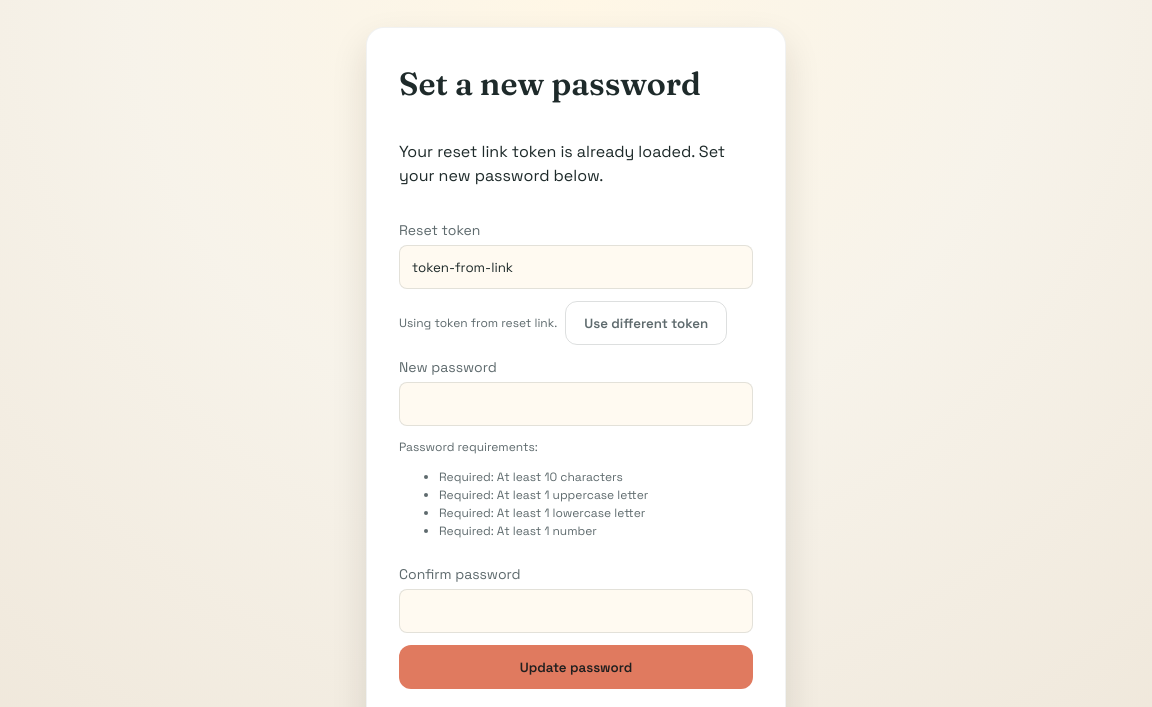
Test case: ResetPassword page › blocks submit when password does not meet strength rules
This screenshot has width=1152, height=707.
Type "Weak12" into the password field labelled "New password".
click(576, 404); type("Weak12")  # box [399, 382, 753, 426]
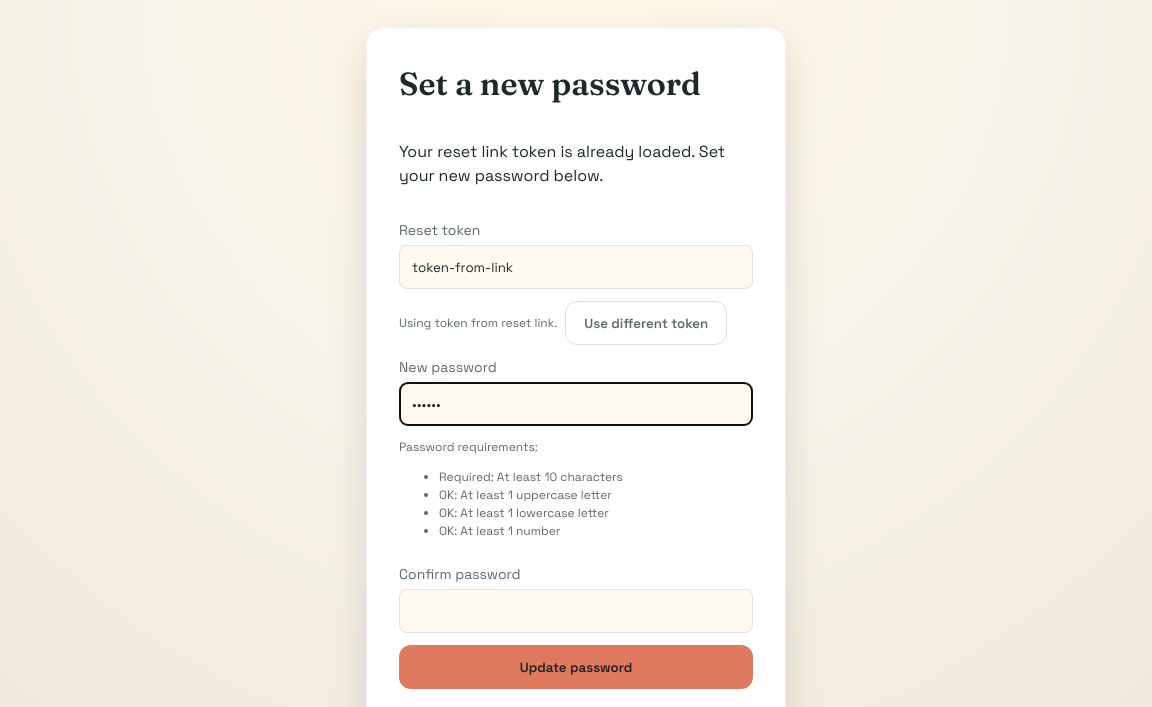
Type "Weak12" into the password field labelled "Confirm password".
click(576, 611); type("Weak12")  # box [399, 589, 753, 633]
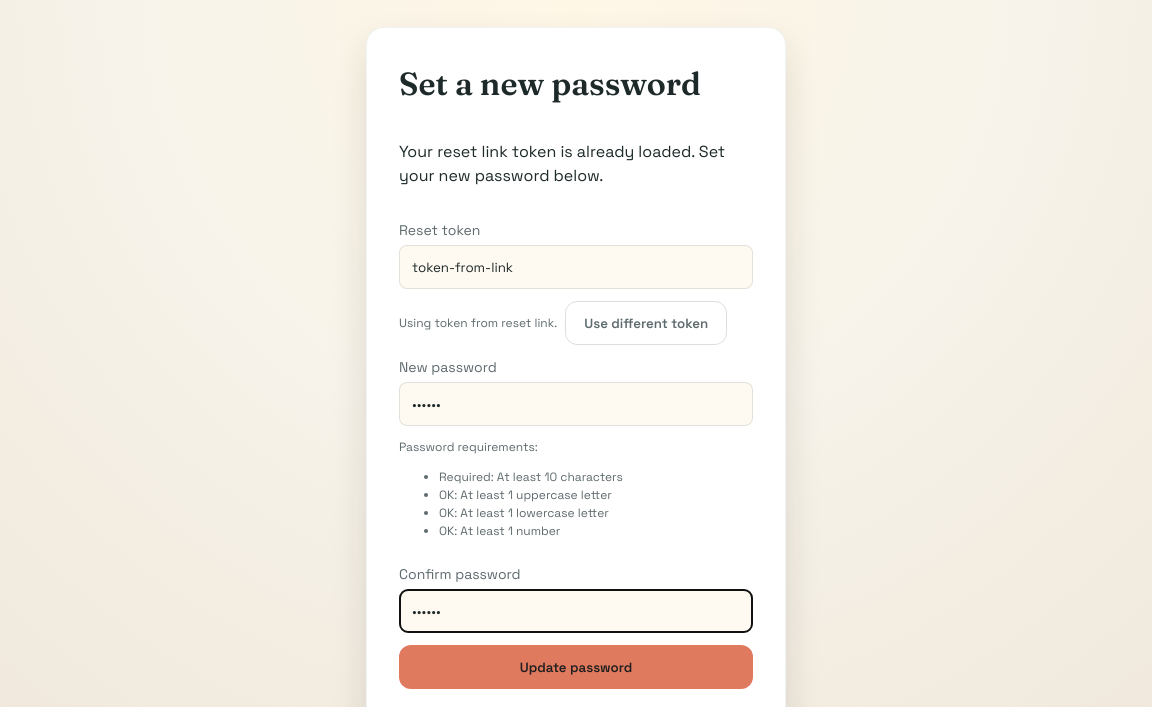
Click the button "Update password".
click(576, 667)  # box [399, 645, 753, 689]
(page scrolled)
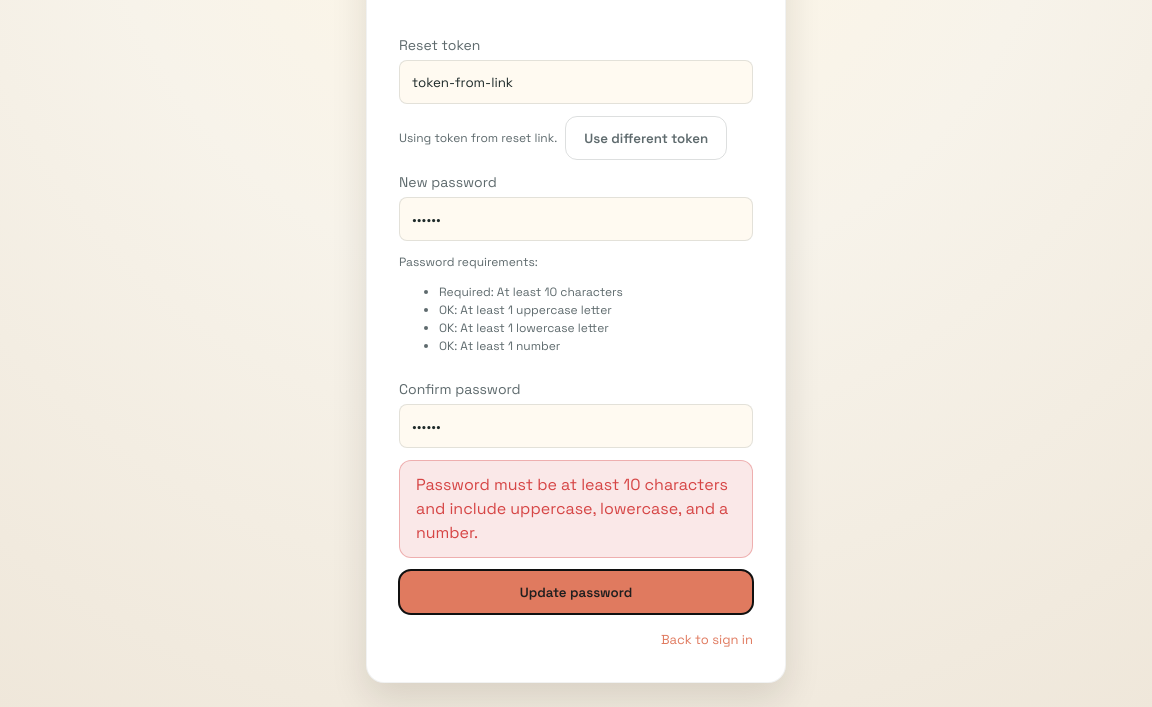
Expected: the text "Password must be at least 10 characters" is shown, [416, 474, 728, 543]
